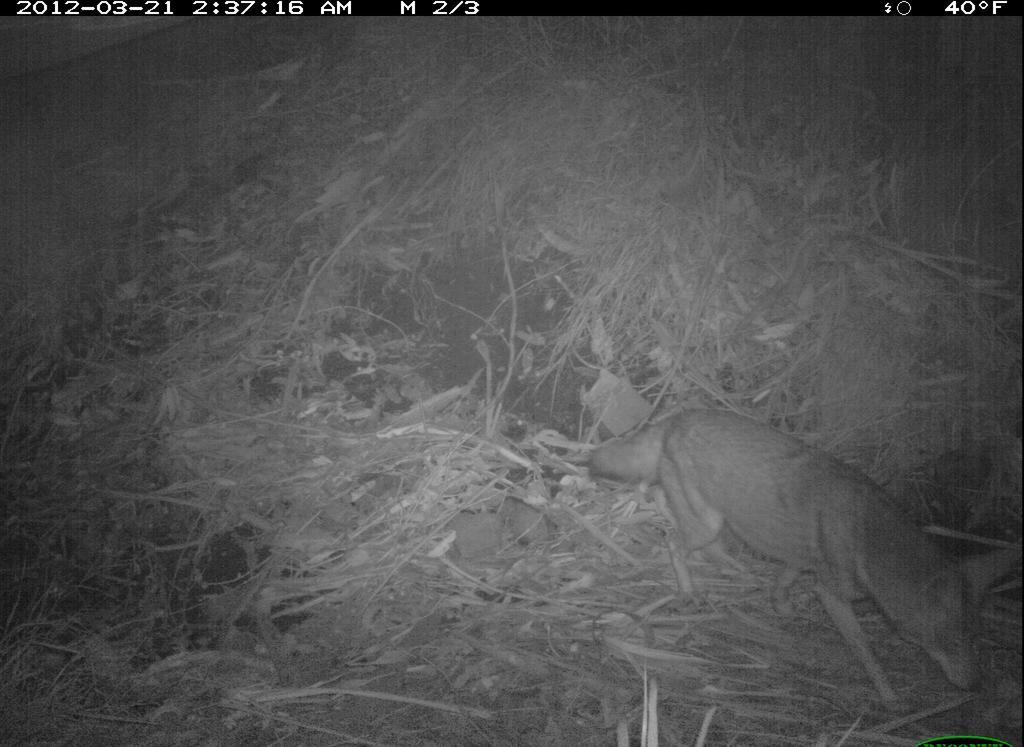coyote: (583, 383, 1017, 713)
